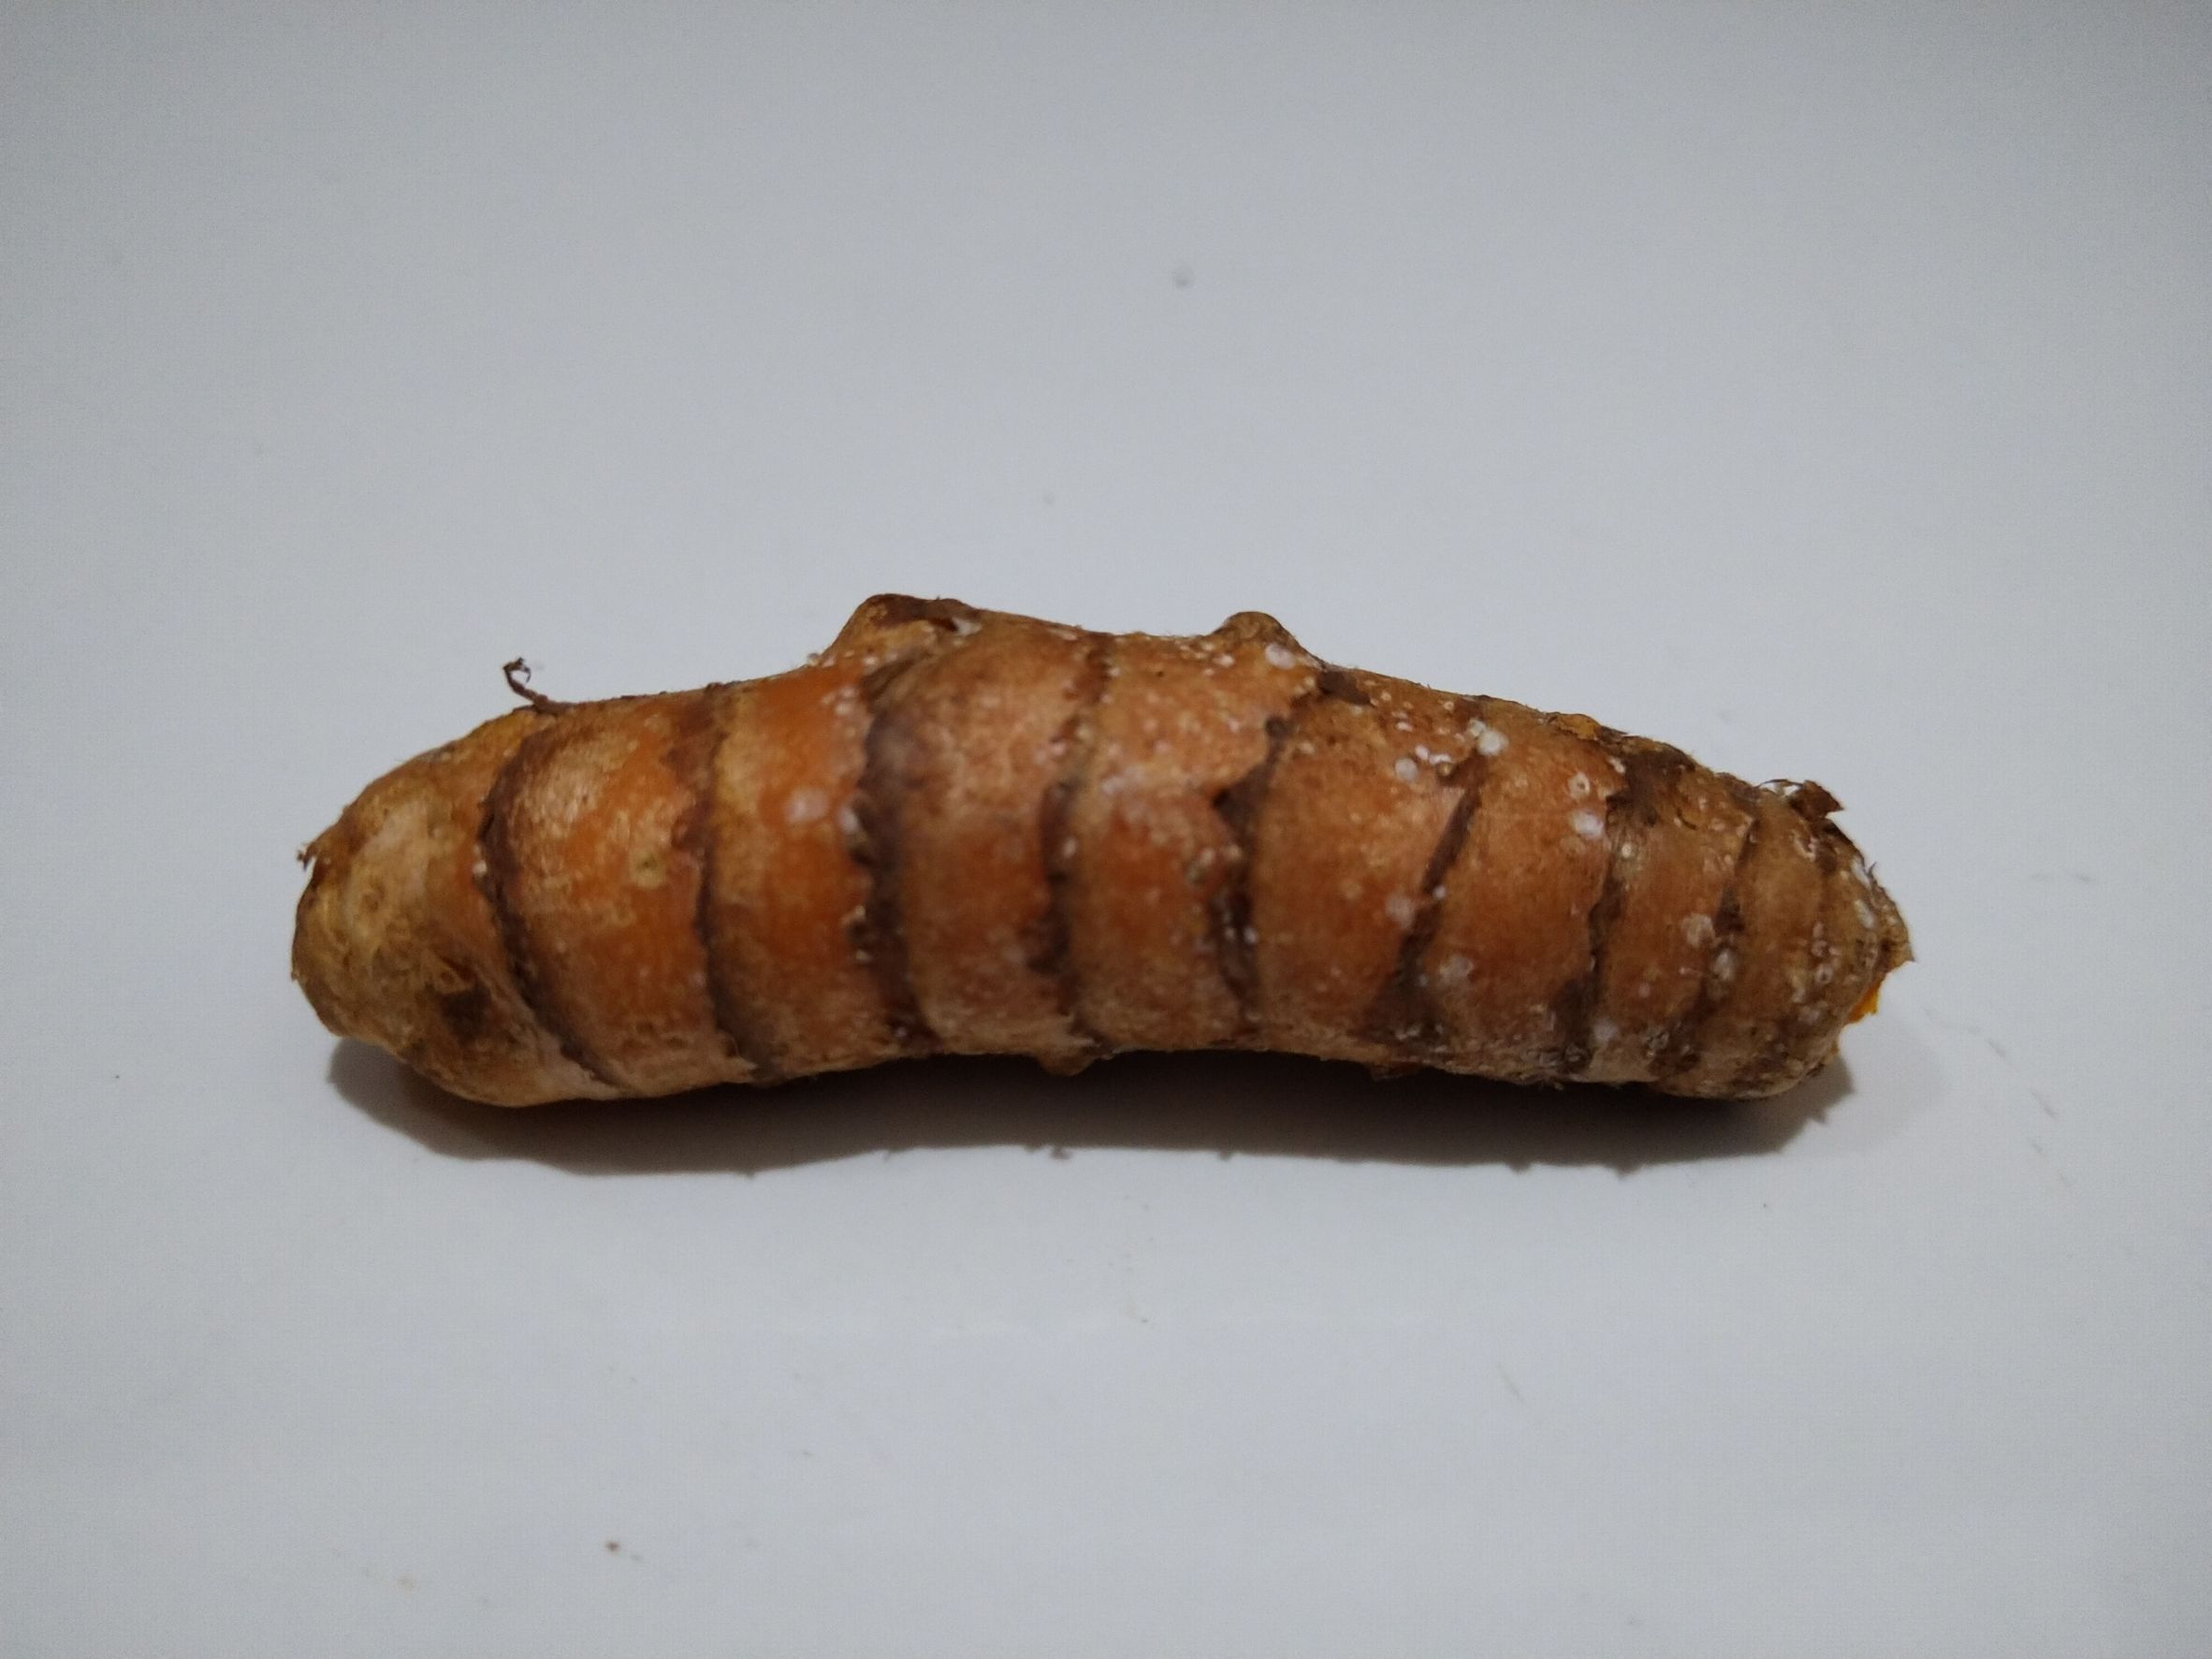Kunyit: (300, 619, 1914, 1213)
